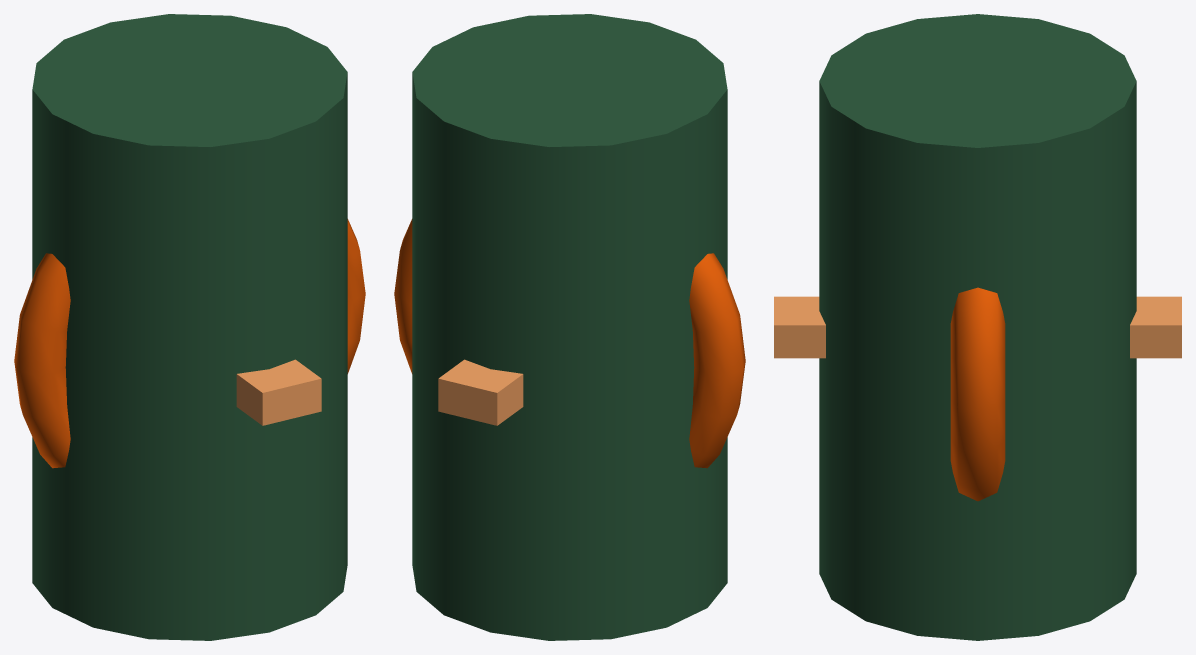
Rendered from dragon_roll.glb.
3 renders of one model, left to right at view 1: azimuth 30°, elevation 25°; view 2: azimuth 150°, elevation 25°; view 3: azimuth 270°, elevation 25°, orthographic.
Visible parts, largest first — view 1: rice, tobiko, avocado; view 2: rice, tobiko, avocado; view 3: rice, tobiko, avocado.
Boxes of the visible parts, x1,y1,x2,y2 form: rice: [32, 14, 347, 640]; tobiko: [14, 219, 365, 468]; avocado: [236, 359, 321, 425]; rice: [412, 14, 727, 640]; tobiko: [394, 219, 745, 468]; avocado: [438, 359, 523, 425]; rice: [819, 14, 1136, 640]; tobiko: [950, 287, 1005, 501]; avocado: [774, 296, 1181, 358].
Size of the model in its own units: 0.88 by 1.2 by 0.9.
